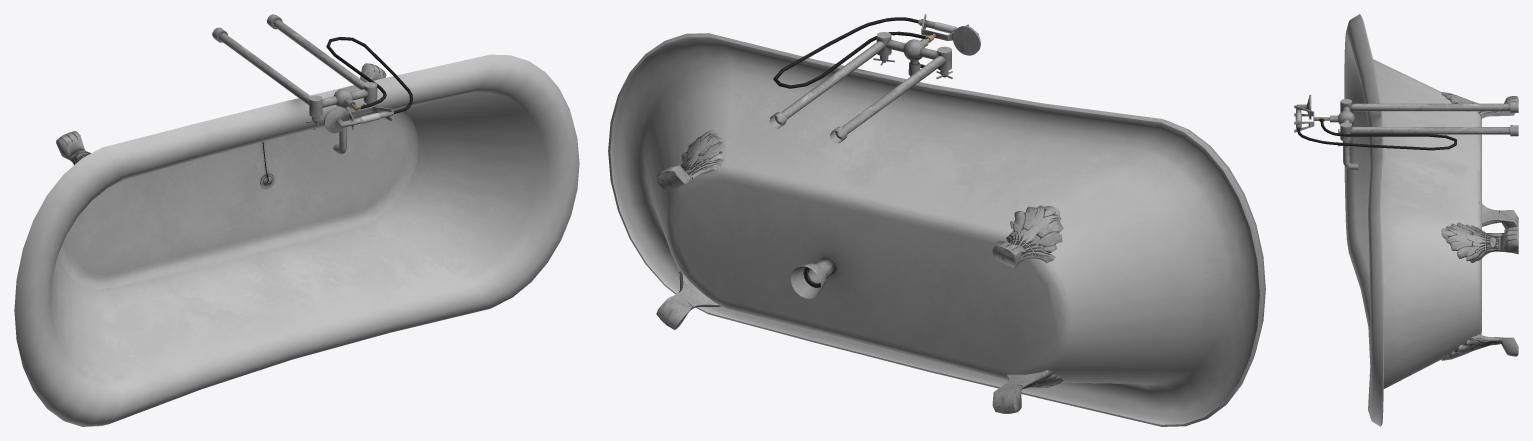
The model's file is bathtub.glb.
3 views of the same model, side by side, from view 1: azimuth 30°, elevation 25°; view 2: azimuth 150°, elevation 25°; view 3: azimuth 270°, elevation 25° (orthographic). The views are drawn at different scales.
Parts seen in each view (by area): view 1: SM_Bathtub_Material #3_0; view 2: SM_Bathtub_Material #3_0; view 3: SM_Bathtub_Material #3_0.
Boxes of the visible parts, box(x1,y1,x2,y2) form: SM_Bathtub_Material #3_0: box(14, 14, 579, 426); SM_Bathtub_Material #3_0: box(608, 14, 1265, 426); SM_Bathtub_Material #3_0: box(1294, 14, 1518, 426).
Size of the model in its own units: 1.43 by 0.6889 by 0.5502.
1 material, 1 textured.
